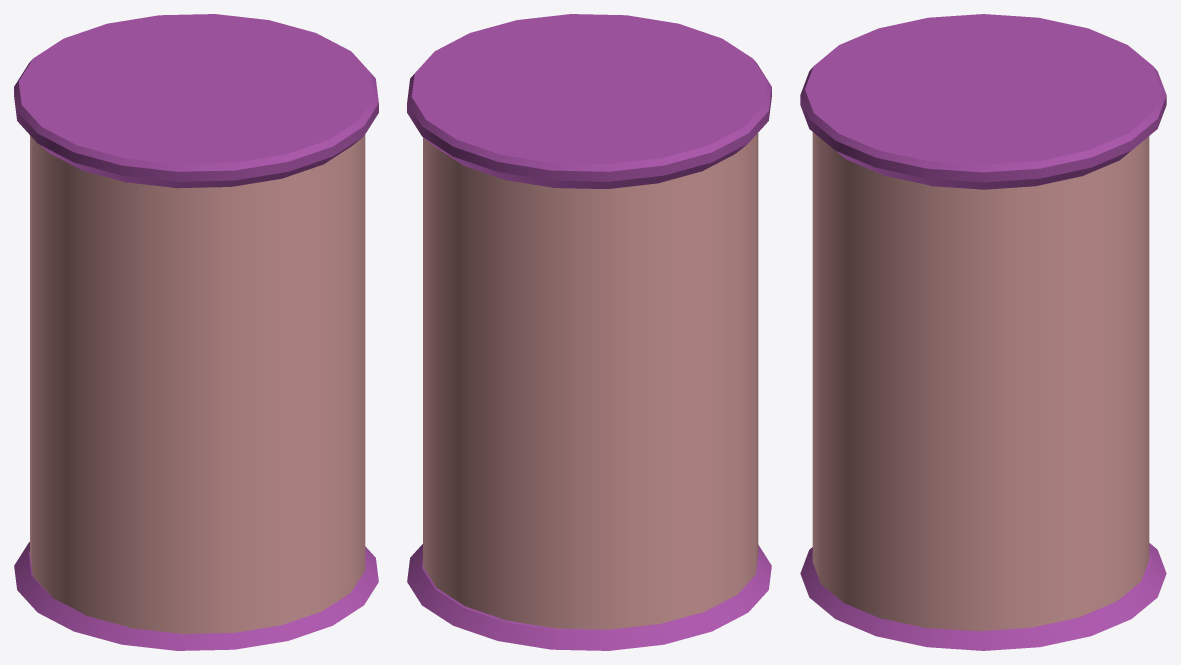
The model's file is teleporter.fbx.
3 renders of one model, left to right at view 1: azimuth 30°, elevation 25°; view 2: azimuth 150°, elevation 25°; view 3: azimuth 270°, elevation 25°, orthographic.
Visible parts, largest first — view 1: polySurface25; view 2: polySurface25; view 3: polySurface25.
Boxes of the visible parts, bbox=[...] form: polySurface25: bbox=[14, 14, 378, 650]; polySurface25: bbox=[407, 14, 771, 650]; polySurface25: bbox=[800, 14, 1166, 650].
Bounding box in the file's own units: 9.28 × 13.53 × 9.28.
